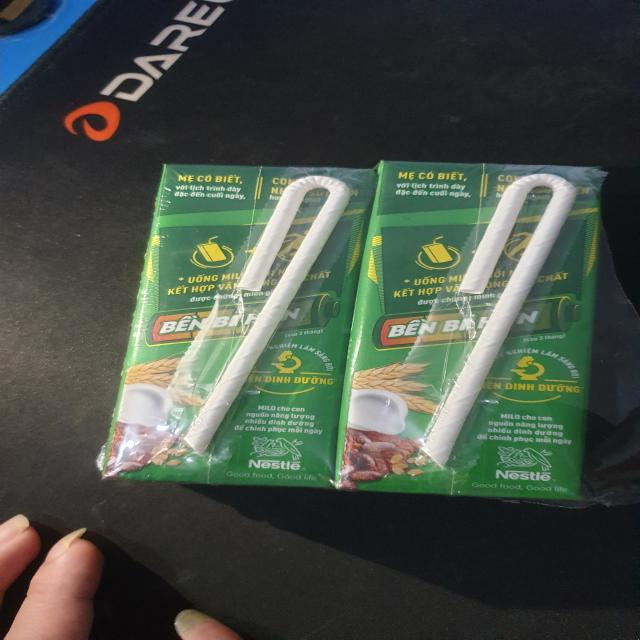Milo: (337, 163, 602, 506), (114, 161, 376, 491)
